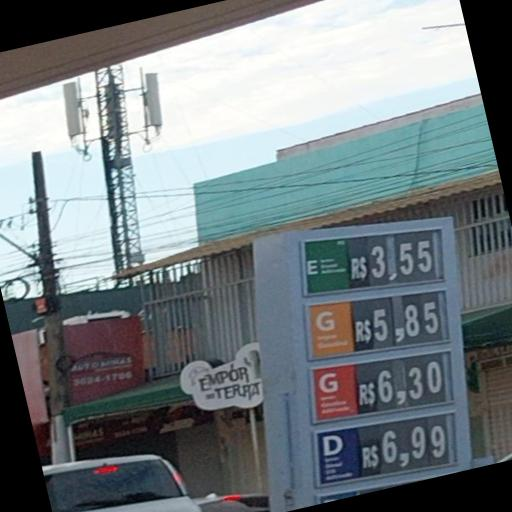ETANOL: (302, 238, 352, 293)
GASOLINA AD: (312, 367, 355, 420)
GASOLINA C: (304, 300, 357, 357)
S10: (316, 428, 358, 482)
placa: (289, 217, 473, 494)
preco: (372, 354, 448, 409), (372, 293, 445, 349), (358, 231, 437, 282), (380, 415, 450, 472)
